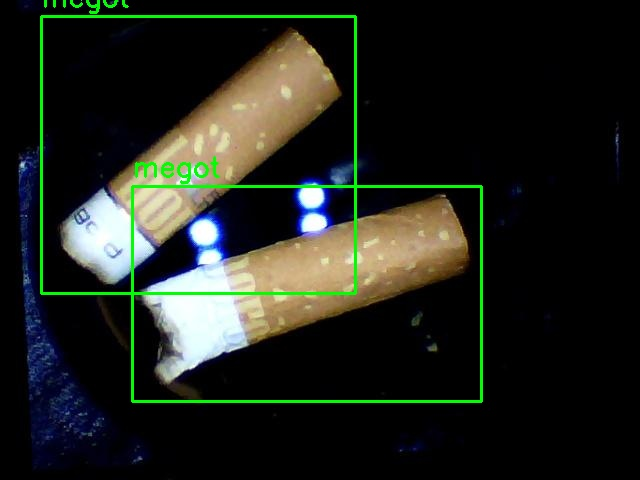megot: (41, 16, 355, 293), (132, 186, 481, 401)
